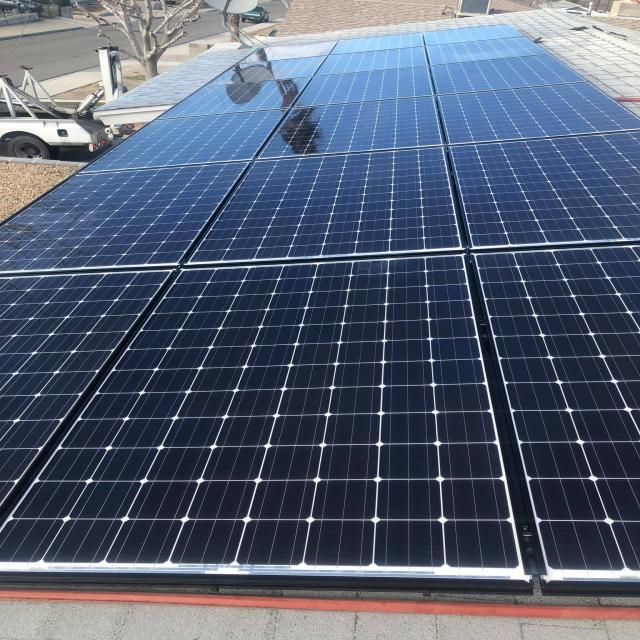clean-solar-panel: (2, 25, 638, 588)
